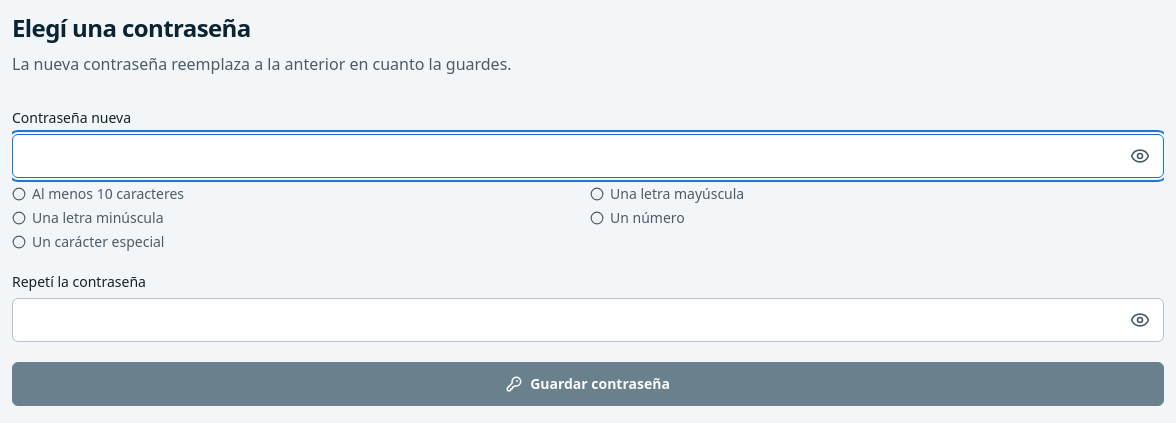
Test: ResetPasswordPage › toma el token del fragmento y lo borra de la URL
The width and height of the screenshot is (1176, 423).
In the password field labelled "Contraseña nueva": {"x": 588, "y": 156} [12, 134, 1164, 178], type "corta"
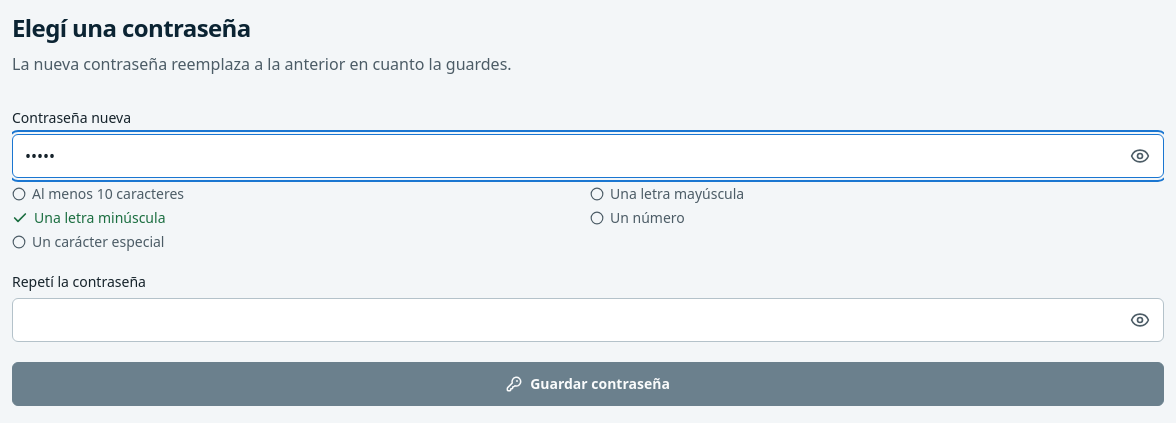
Expected: the button "Guardar contraseña" is disabled, [12, 362, 1164, 406]
In the password field labelled "Contraseña nueva": {"x": 588, "y": 156} [12, 134, 1164, 178], type "Nueva-Clave-2026!"
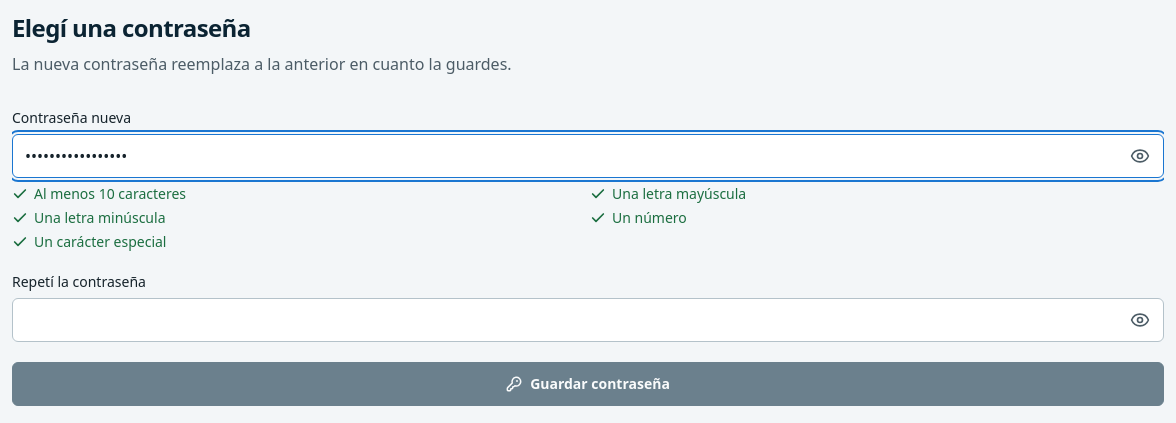
In the password field labelled "Repetí la contraseña": {"x": 588, "y": 320} [12, 298, 1164, 342], type "Nueva-Clave-2026!"
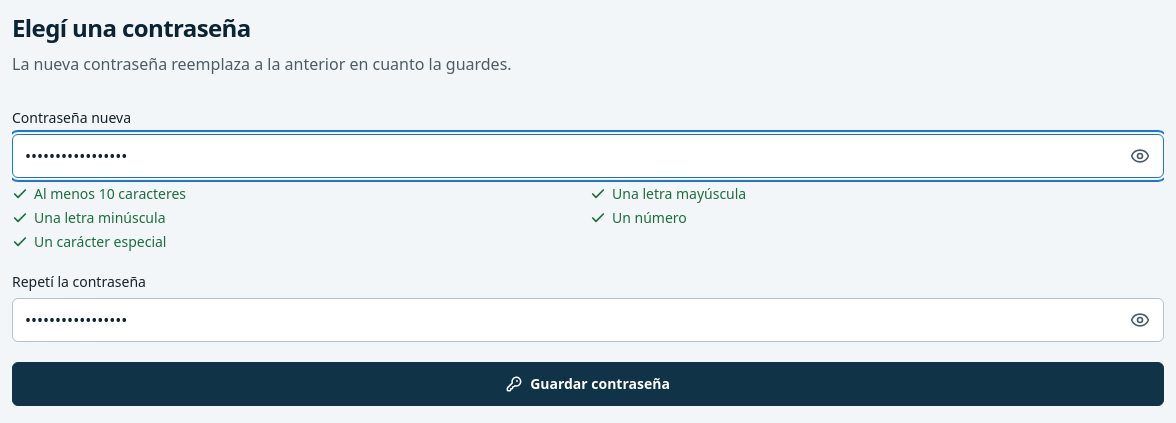
Click the button "Guardar contraseña": {"x": 588, "y": 384} [12, 362, 1164, 406]
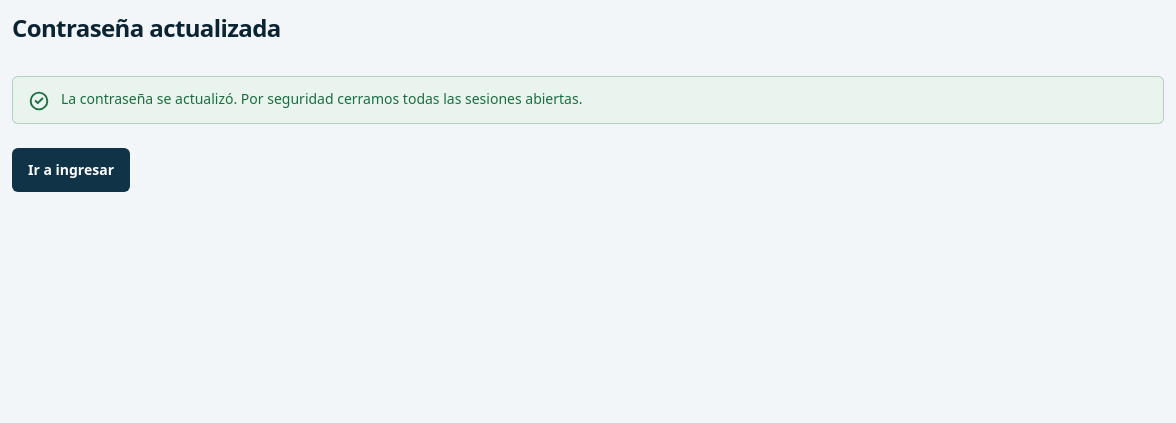
Result: the heading "Contraseña actualizada" is shown at [12, 11, 281, 44]
